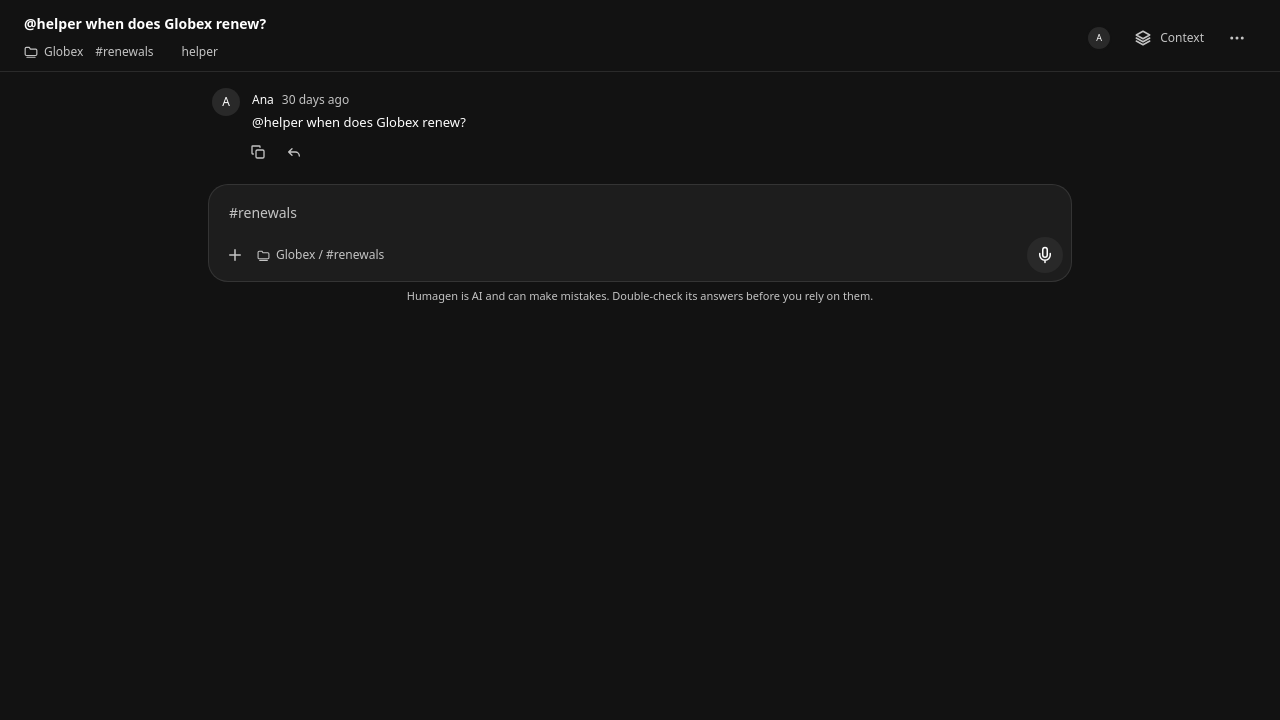
Scenario: a shared conversation's project remains locked in the + menu with its explanation
Click the button named "Add files, agents or a project": (235,255) [217, 237, 253, 273]
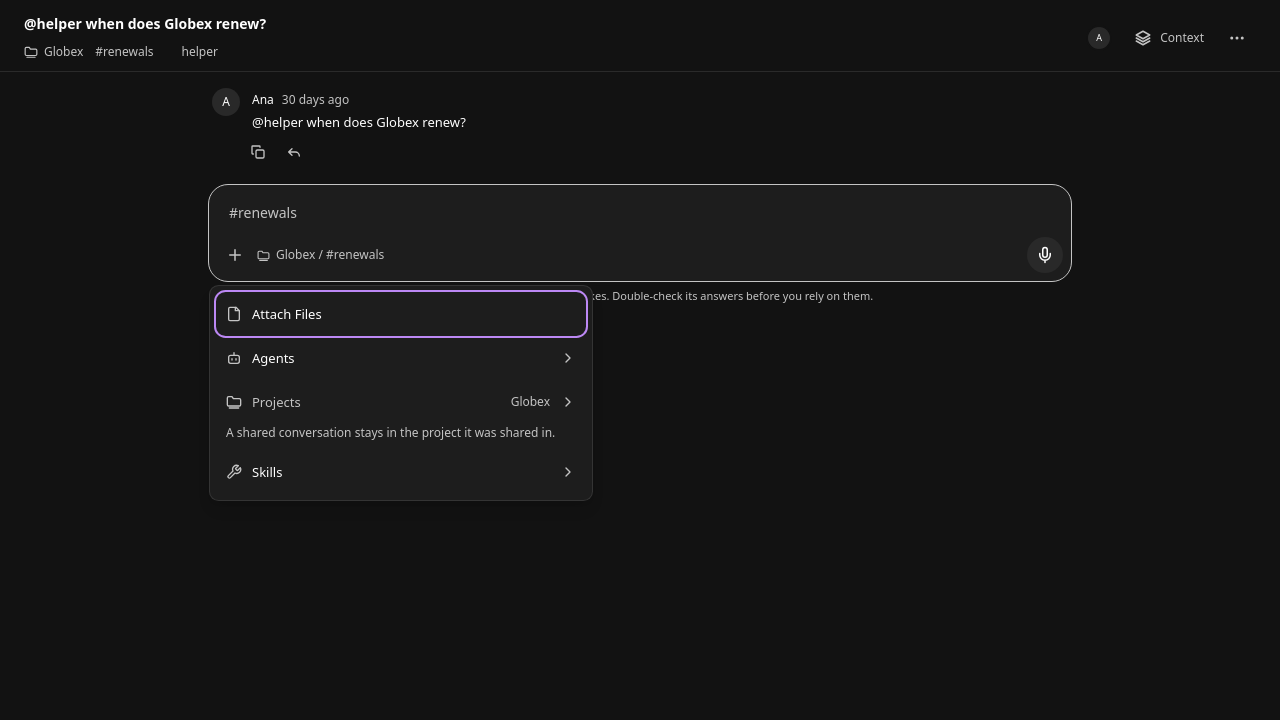
Expected: the text "A shared conversation stays in the project it was shared in." is shown, [216, 424, 586, 450]
